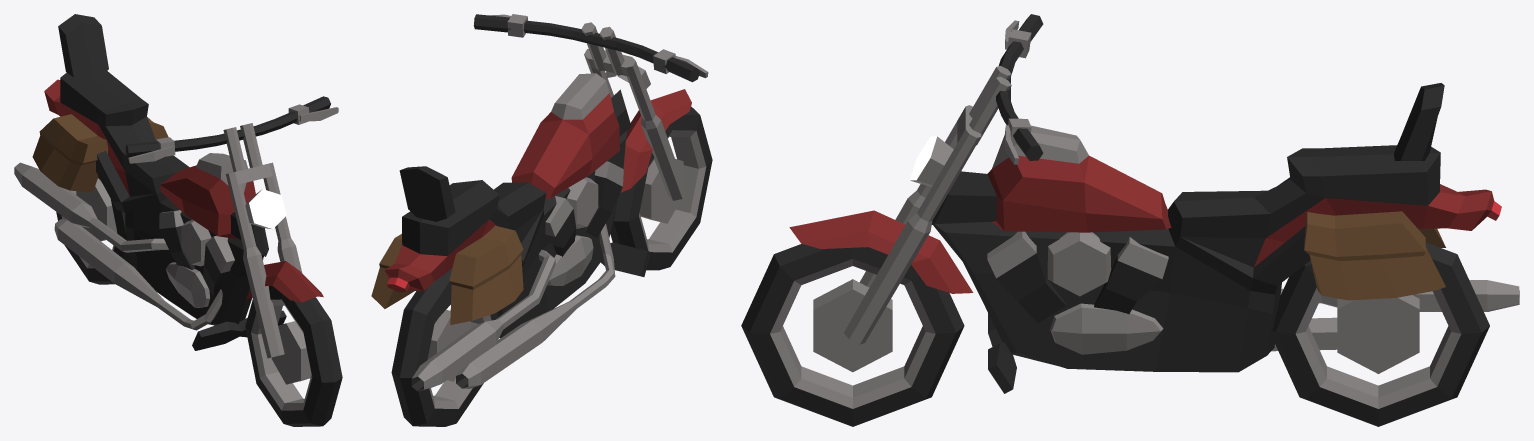
The model's file is vehicles-motorbike-classic.glb.
The picture shows the model from 3 angles, left to right: view 1: azimuth 30°, elevation 25°; view 2: azimuth 150°, elevation 25°; view 3: azimuth 270°, elevation 25°; orthographic projection. The views are drawn at different scales.
Visible parts, largest first — view 1: motorbike-classic; view 2: motorbike-classic; view 3: motorbike-classic.
Part boxes in pixels (x1=…): motorbike-classic: x1=14, y1=14, x2=342, y2=426; motorbike-classic: x1=371, y1=14, x2=712, y2=426; motorbike-classic: x1=741, y1=14, x2=1519, y2=426.
Bounding box in the file's own units: 0.9661 × 1.16 × 2.3.
